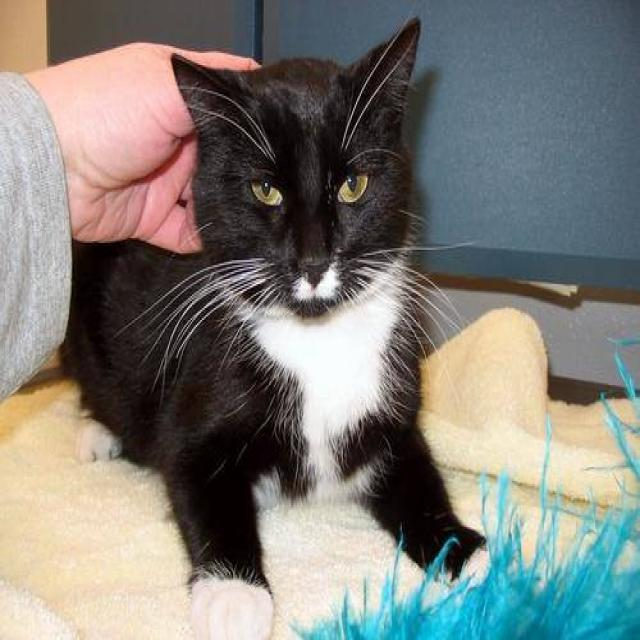cat: (58, 14, 489, 638)
